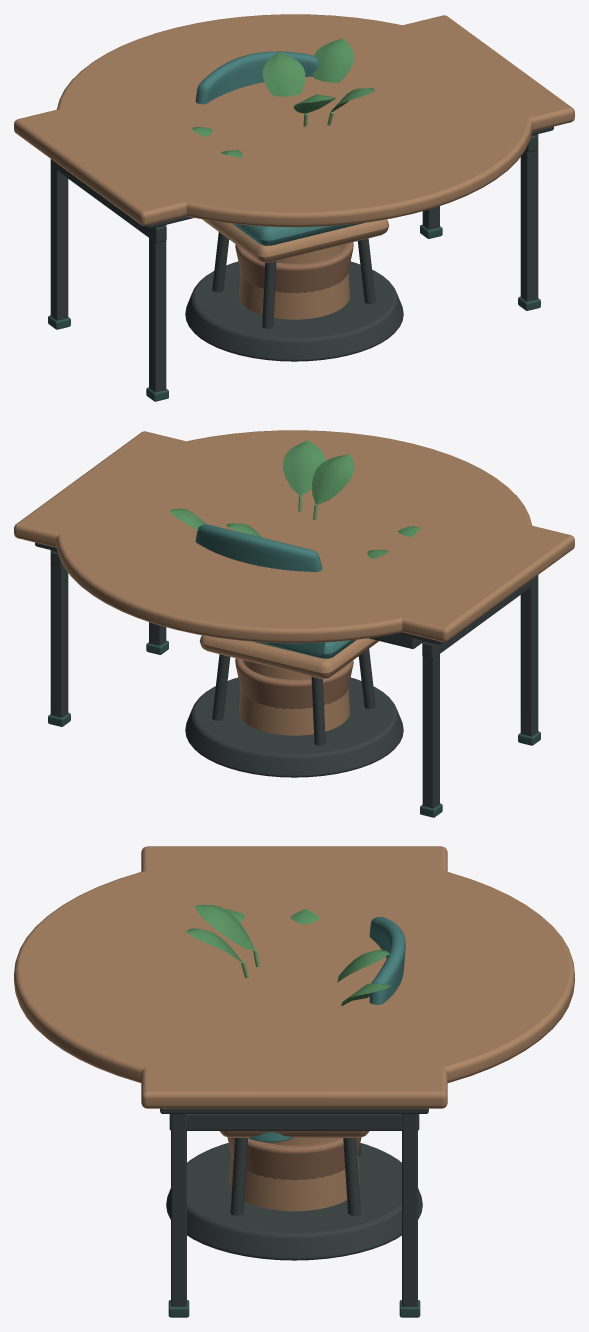
File: studio.glb
3 renders of one model, top to bottom at view 1: azimuth 30°, elevation 25°; view 2: azimuth 150°, elevation 25°; view 3: azimuth 270°, elevation 25°, orthographic. The views are drawn at different scales.
Parts seen in each view (by area): view 1: MeetingTable / R9 Walnut, Desk / R9 Walnut, MeetingTable / R9 Graphite, Desk / R9 Graphite, Plant / R9 Foliage, Chair / R9 Textile, Plant / R9 Ceramic, Chair / R9 Walnut, Chair / R9 Graphite, Desk / R9 Piping; view 2: MeetingTable / R9 Walnut, Desk / R9 Walnut, MeetingTable / R9 Graphite, Desk / R9 Graphite, Chair / R9 Textile, Plant / R9 Foliage, Chair / R9 Walnut, Plant / R9 Ceramic, Chair / R9 Graphite, Desk / R9 Piping; view 3: MeetingTable / R9 Walnut, Desk / R9 Walnut, MeetingTable / R9 Graphite, Desk / R9 Graphite, Plant / R9 Ceramic, Plant / R9 Foliage, Chair / R9 Graphite, Chair / R9 Textile, Chair / R9 Walnut.
Boxes of the visible parts, x1,y1,x2,y2 form: MeetingTable / R9 Walnut: (57,14,532,319); Desk / R9 Walnut: (14,15,574,225); MeetingTable / R9 Graphite: (185,261,403,361); Desk / R9 Graphite: (50,126,553,392); Plant / R9 Foliage: (192,38,374,158); Chair / R9 Textile: (195,51,364,245); Plant / R9 Ceramic: (235,242,353,293); Chair / R9 Walnut: (202,219,388,262); Chair / R9 Graphite: (212,232,375,328); Desk / R9 Piping: (48,224,540,401); MeetingTable / R9 Walnut: (56,430,531,735); Desk / R9 Walnut: (14,431,574,641); MeetingTable / R9 Graphite: (185,677,403,777); Desk / R9 Graphite: (35,542,538,808); Chair / R9 Textile: (195,524,355,658); Plant / R9 Foliage: (169,440,420,558); Chair / R9 Walnut: (200,635,378,678); Plant / R9 Ceramic: (235,658,353,709); Chair / R9 Graphite: (212,649,375,745); Desk / R9 Piping: (48,640,540,817); MeetingTable / R9 Walnut: (14,853,574,1211); Desk / R9 Walnut: (141,846,447,1108); MeetingTable / R9 Graphite: (166,1143,422,1260); Desk / R9 Graphite: (160,1108,428,1306); Plant / R9 Ceramic: (227,1137,361,1179); Plant / R9 Foliage: (186,904,390,1005); Chair / R9 Graphite: (230,1138,360,1215); Chair / R9 Textile: (369,917,405,1004); Chair / R9 Walnut: (219,1131,369,1137).
Size of the model in its own units: 2.5 by 1.38 by 2.38.
